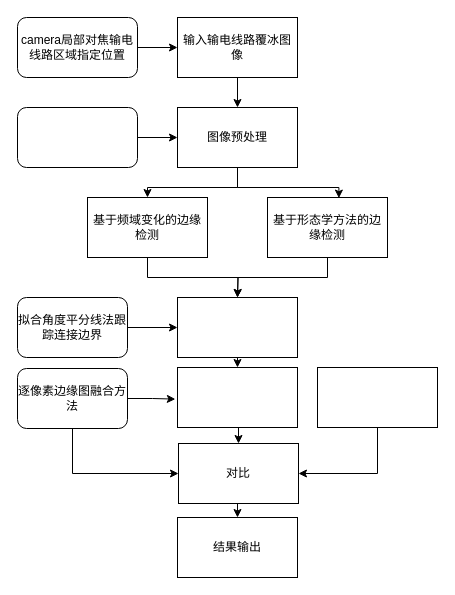
Some shapes in this 455 by 595 pixel diagram are drawn without their labels. The centre of each missing label's shape, as x and y in pixels:
图像融合: (x=237, y=397)
灰度增强和显著性特征增强: (x=77, y=137)
读取未覆冰导线: (x=377, y=397)
边缘提取: (x=237, y=327)
